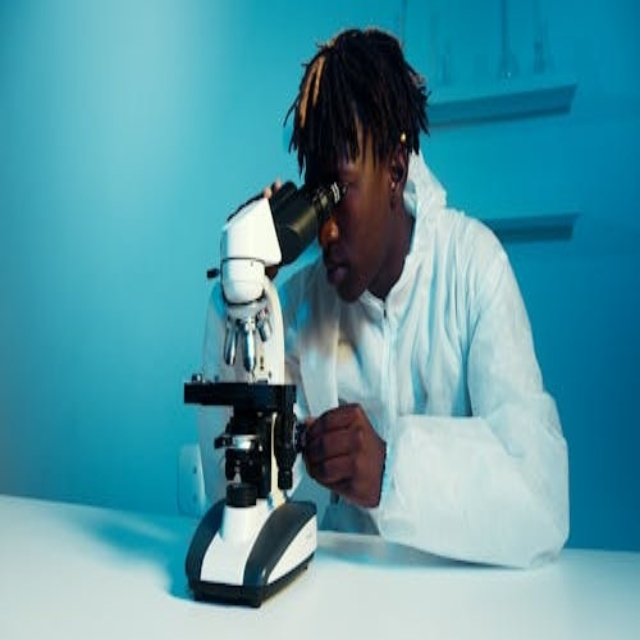Sin_gafas: (339, 181, 350, 199)
Sin_guantes: (296, 376, 387, 519)
Sin_mascara: (320, 253, 357, 296)
